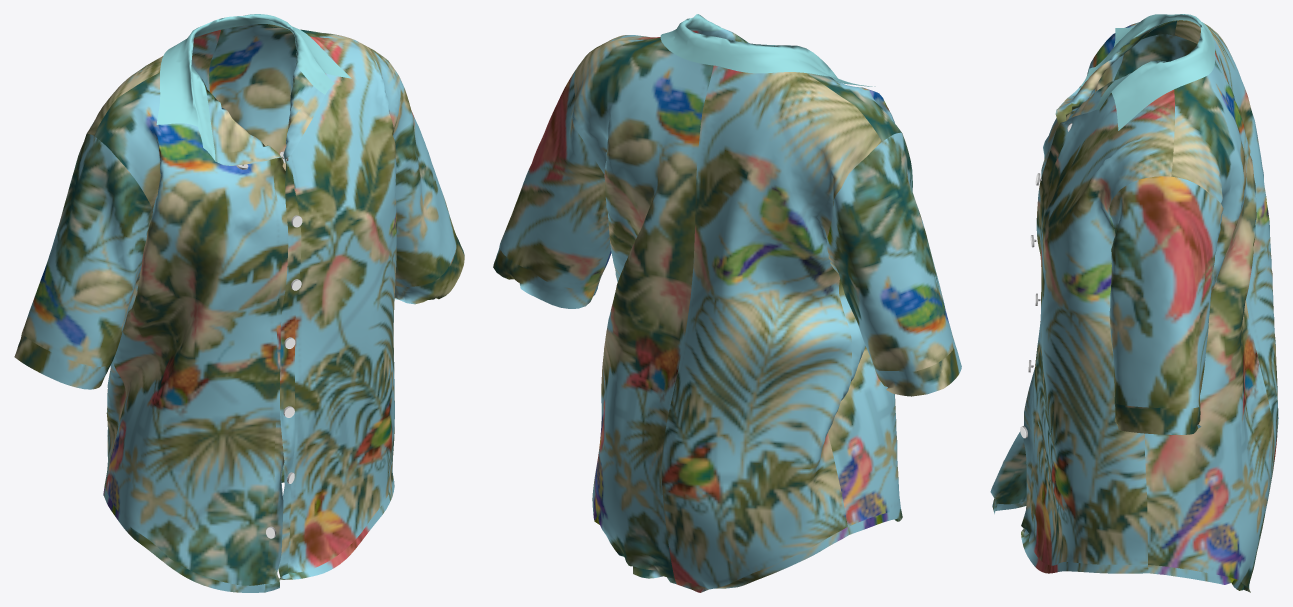
3 views of the same model, side by side, from view 1: azimuth 30°, elevation 25°; view 2: azimuth 150°, elevation 25°; view 3: azimuth 270°, elevation 25° (orthographic). The views are drawn at different scales.
Visible parts, largest first — view 1: Model_13; view 2: Model_13; view 3: Model_13.
Part boxes in pixels (bbox=[...]): Model_13: bbox=[14, 14, 464, 592]; Model_13: bbox=[493, 14, 961, 592]; Model_13: bbox=[990, 14, 1278, 592].
Size of the model in its own units: 5.7 by 6.4 by 3.12.
Materials: 3 (2 with a texture image).
